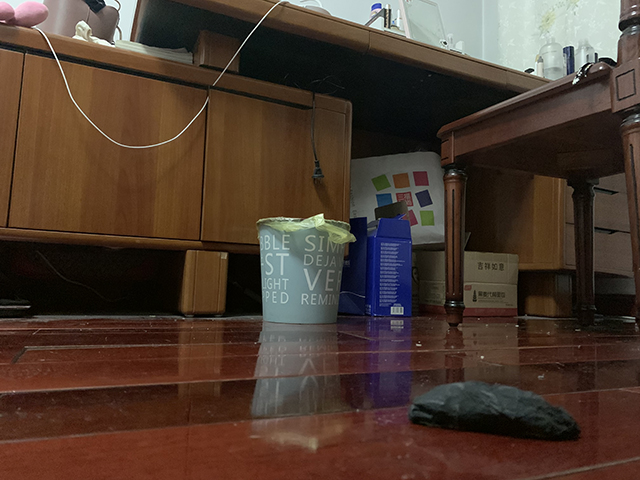feces: (406, 379, 583, 440)
stool: (435, 1, 640, 336)
table: (1, 1, 640, 320)
trashcan: (255, 212, 357, 326)
